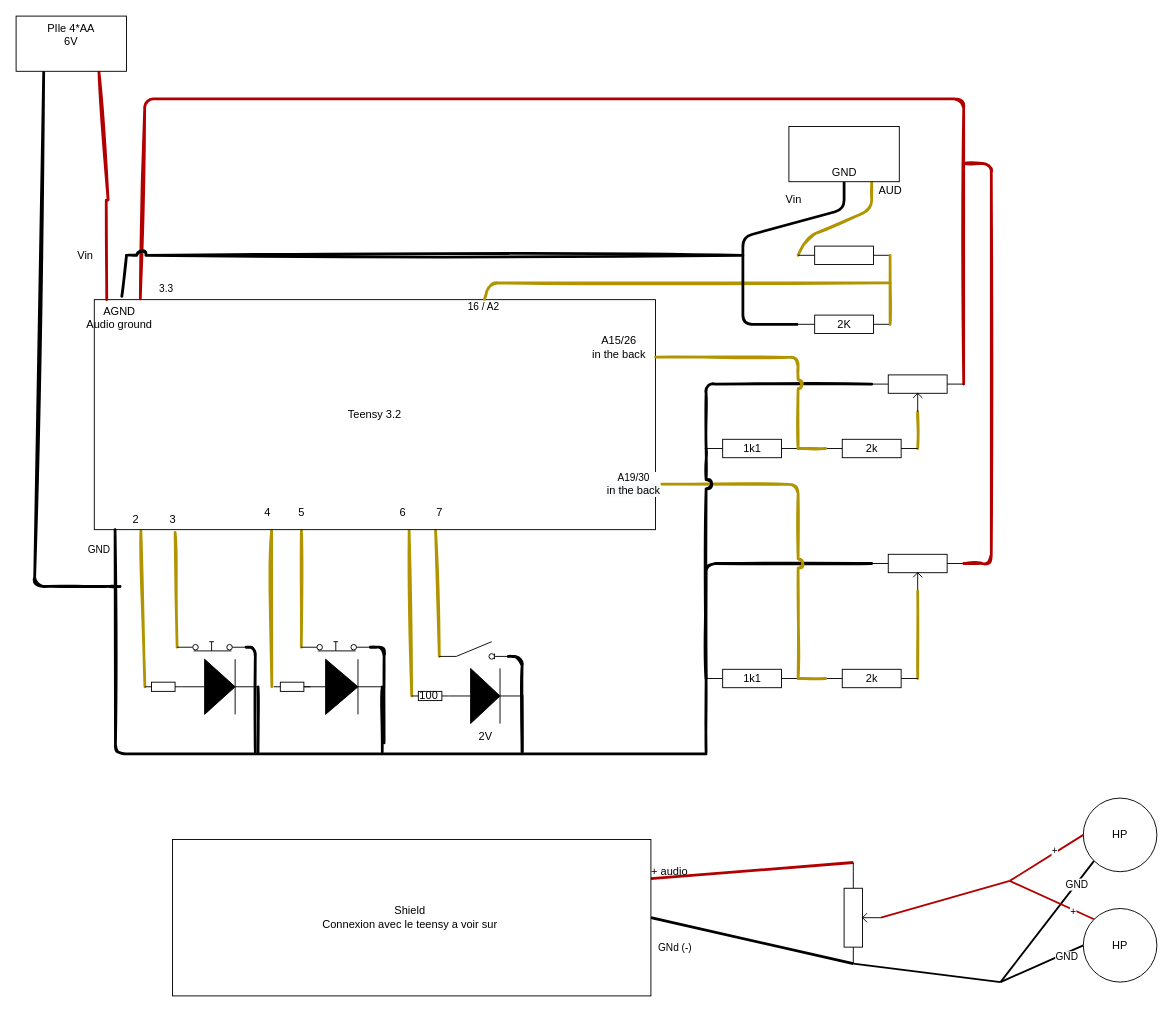
The diagram is 1173 pixels wide and 1012 high, and some of its shapes have lost their labels. The box of each missing label's shape, as (x1, y1, x2, y2) in pixels:
5K1: (797, 245, 890, 264)
A10 k Potentiomètre exponentielle (le grand): (843, 871, 881, 964)
mic: (788, 126, 899, 182)
POT1 10 k lin: (871, 553, 964, 591)
pot2 10k lin: (871, 374, 964, 412)
